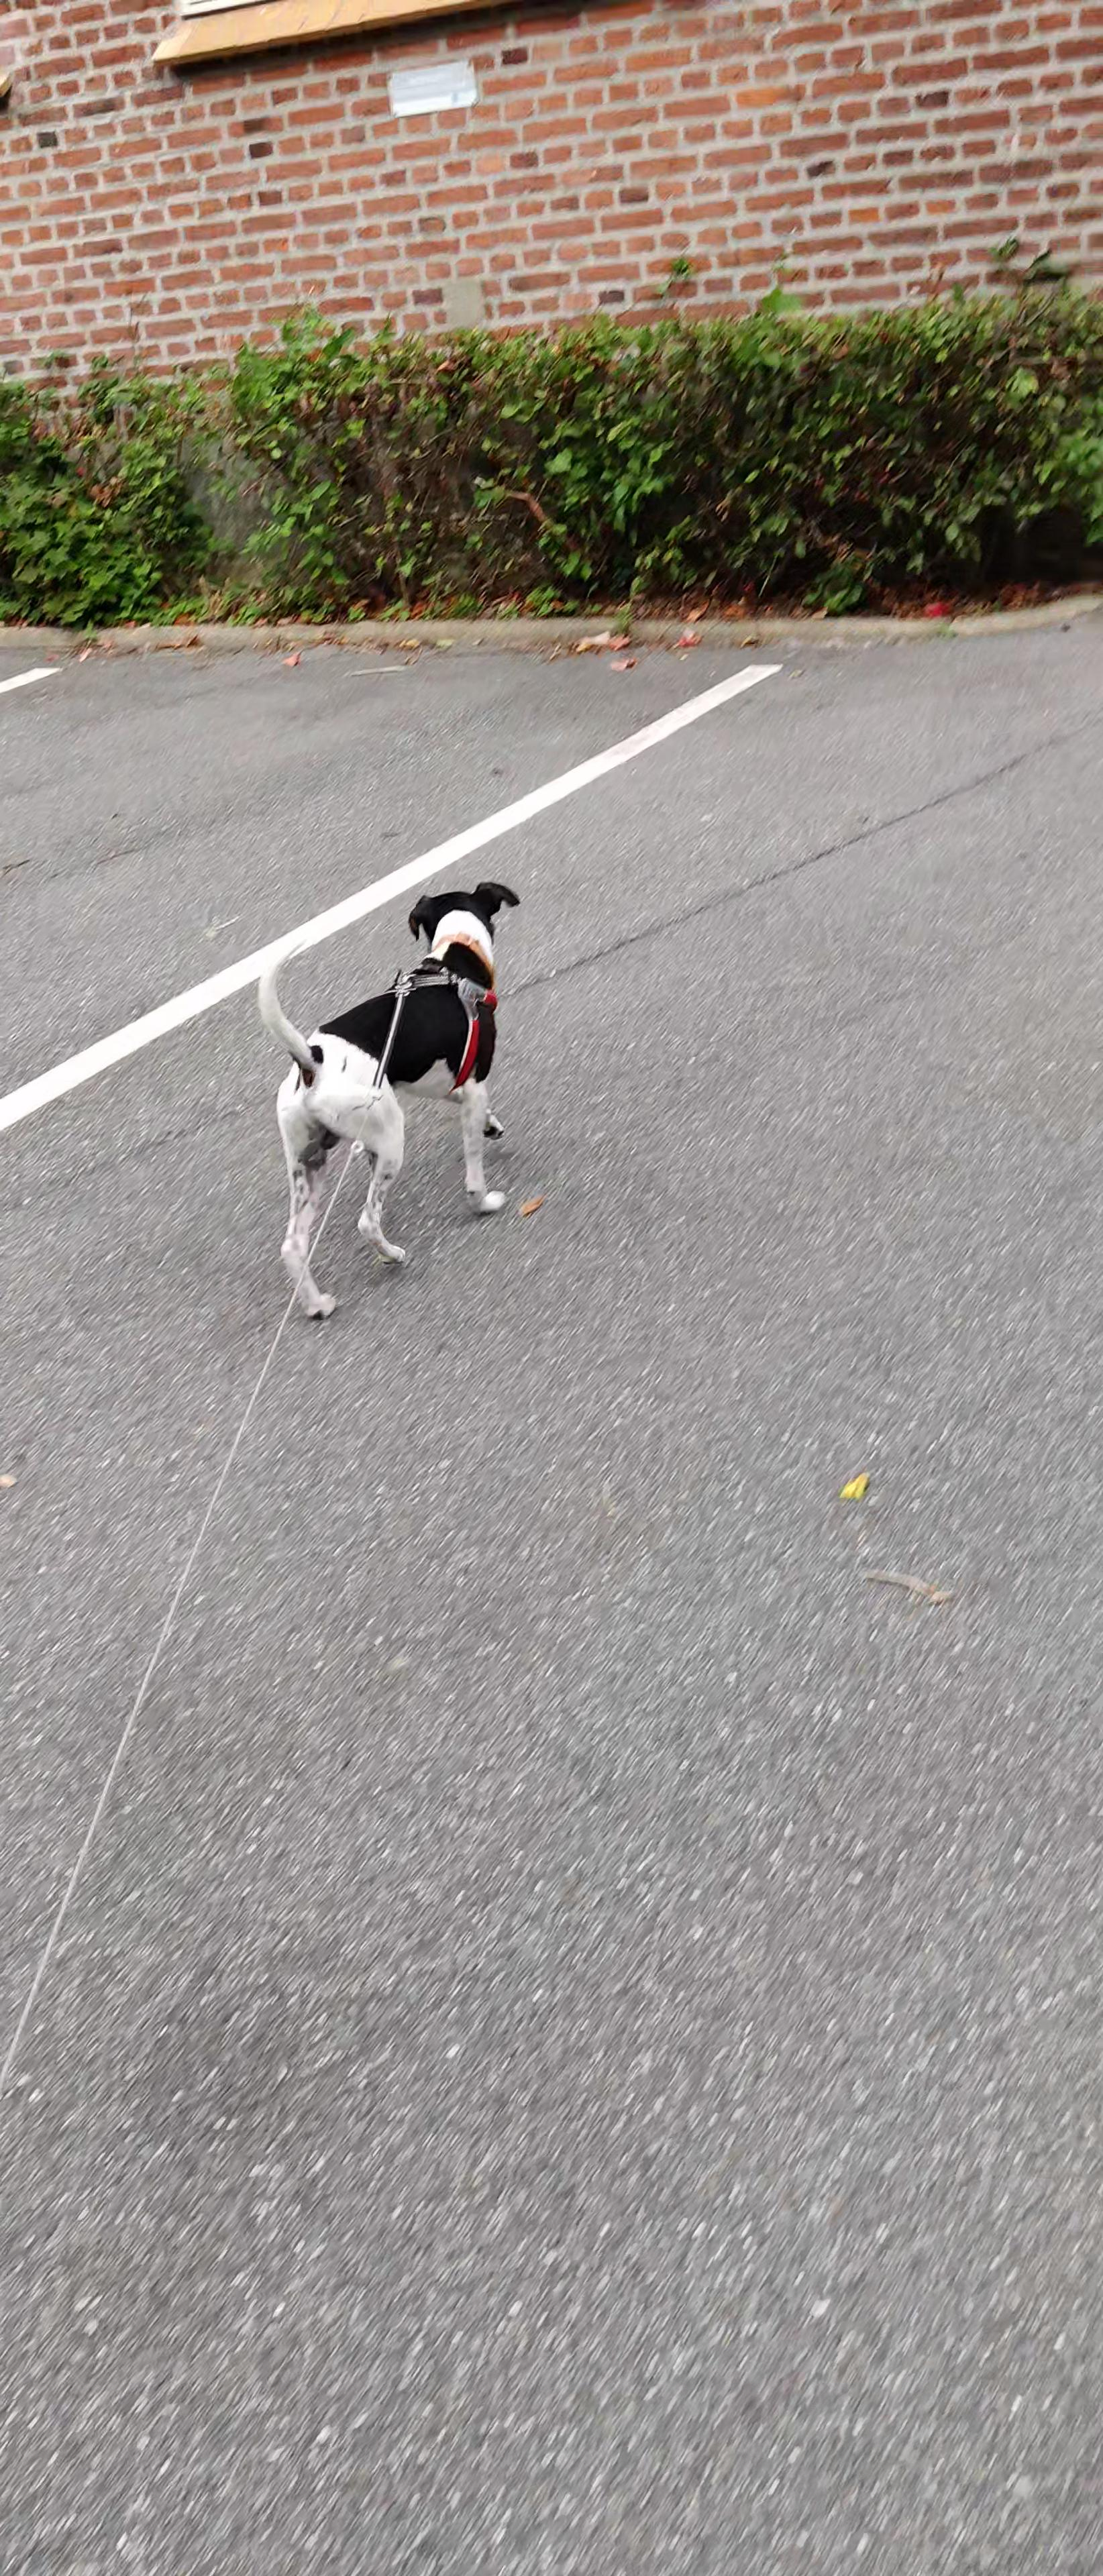Dog: (215, 853, 542, 1337)
